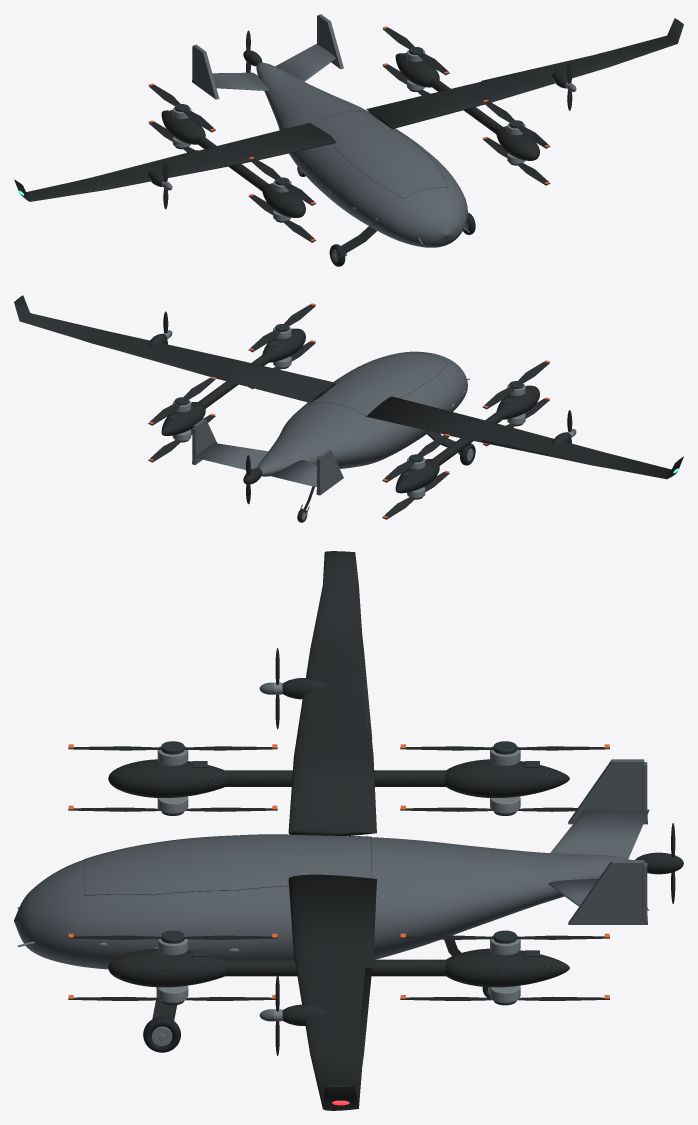
The picture shows the model from 3 angles, top to bottom: view 1: azimuth 30°, elevation 25°; view 2: azimuth 150°, elevation 25°; view 3: azimuth 270°, elevation 25°; orthographic projection. The views are drawn at different scales.
Visible parts, largest first — view 1: Fuselage_Shell, Right_Main_Wing, Left_Main_Wing, Right_Tailplane, Right_Front_Motor_Pod, Left_Front_Motor_Pod, Left_Vertical_Fin, Left_Rear_Motor_Pod, Right_Rear_Motor_Pod, Left_Tailplane, Right_Vertical_Fin, Left_Longitudinal_Boom (+1 smaller); view 2: Fuselage_Shell, Right_Main_Wing, Left_Main_Wing, Right_Tailplane, Left_Rear_Motor_Pod, Right_Rear_Motor_Pod, Left_Front_Motor_Pod, Right_Front_Motor_Pod, Left_Tailplane, Left_Vertical_Fin, Left_Longitudinal_Boom, Right_Longitudinal_Boom (+1 smaller); view 3: Fuselage_Shell, Left_Main_Wing, Right_Main_Wing, Right_Vertical_Fin, Right_Rear_Motor_Pod, Left_Rear_Motor_Pod, Left_Front_Motor_Pod, Right_Front_Motor_Pod, Left_Tailplane, Left_Vertical_Fin, Right_Longitudinal_Boom, Left_Longitudinal_Boom.
Part boxes in pixels (box(x1,y1,x2,y2)): Fuselage_Shell: box(256, 62, 467, 247); Right_Main_Wing: box(366, 18, 683, 129); Left_Main_Wing: box(14, 123, 335, 201); Right_Tailplane: box(275, 43, 335, 81); Right_Front_Motor_Pod: box(496, 126, 539, 160); Left_Front_Motor_Pod: box(262, 184, 305, 217); Left_Vertical_Fin: box(192, 44, 219, 99); Left_Rear_Motor_Pod: box(161, 110, 205, 144); Right_Rear_Motor_Pod: box(395, 53, 439, 87); Left_Tailplane: box(212, 72, 268, 90); Right_Vertical_Fin: box(317, 14, 343, 69); Left_Longitudinal_Boom: box(196, 135, 268, 190); Fuselage_Shell: box(257, 351, 467, 476); Right_Main_Wing: box(14, 295, 335, 402); Left_Main_Wing: box(366, 396, 683, 479); Right_Tailplane: box(193, 443, 268, 469); Left_Rear_Motor_Pod: box(395, 459, 439, 493); Right_Rear_Motor_Pod: box(161, 402, 205, 435); Left_Front_Motor_Pod: box(496, 385, 539, 419); Right_Front_Motor_Pod: box(262, 328, 305, 362); Left_Tailplane: box(272, 460, 318, 487); Left_Vertical_Fin: box(316, 449, 343, 495); Left_Longitudinal_Boom: box(432, 410, 504, 465); Right_Longitudinal_Boom: box(198, 353, 270, 408); Fuselage_Shell: box(14, 834, 630, 969); Left_Main_Wing: box(288, 551, 376, 836); Right_Main_Wing: box(288, 874, 376, 1110); Right_Vertical_Fin: box(568, 860, 647, 924); Right_Rear_Motor_Pod: box(445, 948, 569, 987); Left_Rear_Motor_Pod: box(445, 759, 569, 797); Left_Front_Motor_Pod: box(108, 759, 226, 797); Right_Front_Motor_Pod: box(108, 948, 226, 987); Left_Tailplane: box(550, 809, 649, 858); Left_Vertical_Fin: box(568, 759, 647, 824); Right_Longitudinal_Boom: box(225, 959, 446, 976); Left_Longitudinal_Boom: box(225, 770, 446, 786).
Size of the model in its own units: 7 by 1.15 by 3.71.
Materials: 8 (1 with a texture image).
